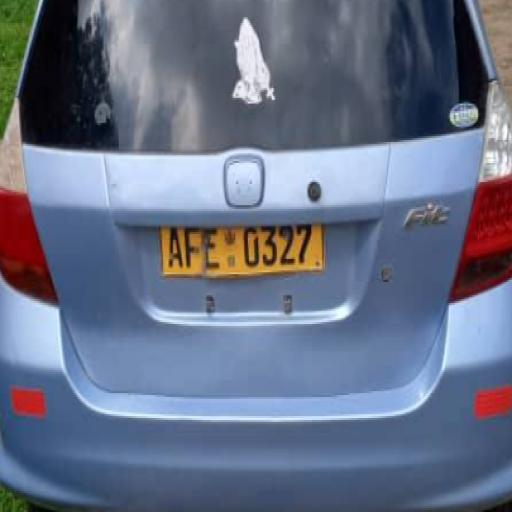number-plates: (161, 222, 317, 274)
